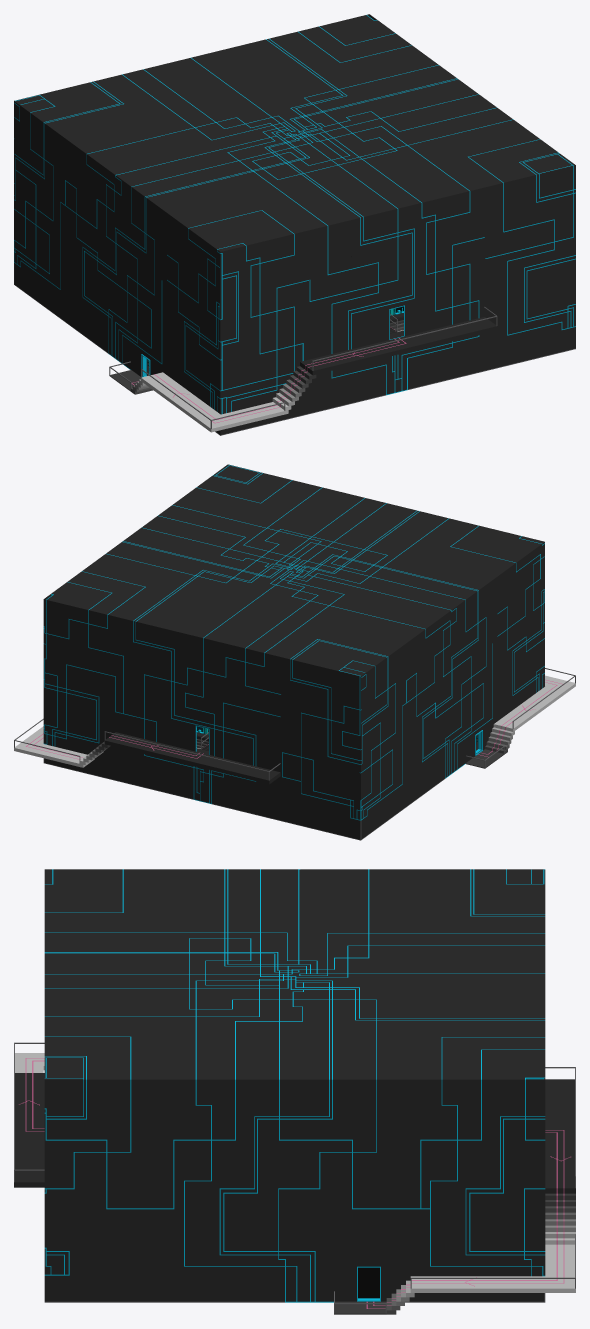
3 renders of one model, top to bottom at view 1: azimuth 30°, elevation 25°; view 2: azimuth 150°, elevation 25°; view 3: azimuth 270°, elevation 25°, orthographic. The views are drawn at different scales.
Parts seen in each view (by area): view 1: Reaktor_6:Mesh, Reaktor_3:Mesh, Reaktor_5:Mesh, Reaktor_2:Mesh, Reaktor_8:Mesh, Reaktor_4:Mesh, Reaktor_7:Mesh, Reaktor_9:Mesh, Reaktor_1:Mesh; view 2: Reaktor_9:Mesh, Reaktor_4:Mesh, Reaktor_5:Mesh, Reaktor_1:Mesh, Reaktor_8:Mesh, Reaktor_3:Mesh, Reaktor_6:Mesh, Reaktor_7:Mesh, Reaktor_2:Mesh; view 3: Reaktor_7:Mesh, Reaktor_1:Mesh, Reaktor_2:Mesh, Reaktor_8:Mesh, Reaktor_6:Mesh, Reaktor_9:Mesh, Reaktor_5:Mesh, Reaktor_3:Mesh, Reaktor_4:Mesh.
Boxes of the visible parts, <box> form: Reaktor_6:Mesh: <box>256,148,497,413</box>; Reaktor_3:Mesh: <box>145,191,322,435</box>; Reaktor_5:Mesh: <box>65,117,255,394</box>; Reaktor_2:Mesh: <box>432,126,575,370</box>; Reaktor_8:Mesh: <box>155,74,431,319</box>; Reaktor_4:Mesh: <box>14,79,154,322</box>; Reaktor_7:Mesh: <box>331,52,521,147</box>; Reaktor_9:Mesh: <box>103,36,329,116</box>; Reaktor_1:Mesh: <box>279,14,420,73</box>; Reaktor_9:Mesh: <box>113,585,326,820</box>; Reaktor_4:Mesh: <box>281,623,406,840</box>; Reaktor_5:Mesh: <box>327,557,516,806</box>; Reaktor_1:Mesh: <box>14,565,169,782</box>; Reaktor_8:Mesh: <box>171,519,417,738</box>; Reaktor_3:Mesh: <box>418,522,575,728</box>; Reaktor_6:Mesh: <box>261,484,464,557</box>; Reaktor_7:Mesh: <box>90,499,260,585</box>; Reaktor_2:Mesh: <box>180,464,308,518</box>; Reaktor_7:Mesh: <box>174,1026,420,1314</box>; Reaktor_1:Mesh: <box>420,1026,575,1302</box>; Reaktor_2:Mesh: <box>44,1026,174,1302</box>; Reaktor_8:Mesh: <box>174,922,420,1025</box>; Reaktor_6:Mesh: <box>14,922,174,1187</box>; Reaktor_9:Mesh: <box>420,922,575,1182</box>; Reaktor_5:Mesh: <box>174,869,420,921</box>; Reaktor_3:Mesh: <box>14,869,174,1078</box>; Reaktor_4:Mesh: <box>420,869,545,921</box>.
Size of the model in its own units: 58 by 25.6 by 58.5.
Materials: 10 (10 with a texture image).
